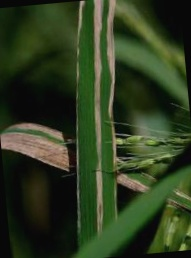Leaf_Blast: (63, 1, 129, 237)
